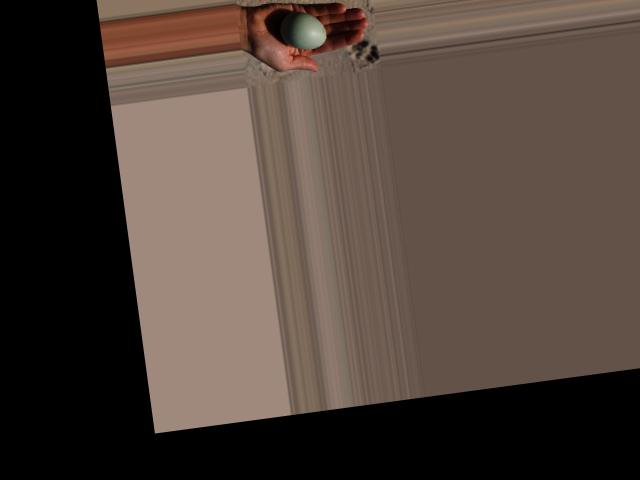egg: (279, 8, 329, 52)
